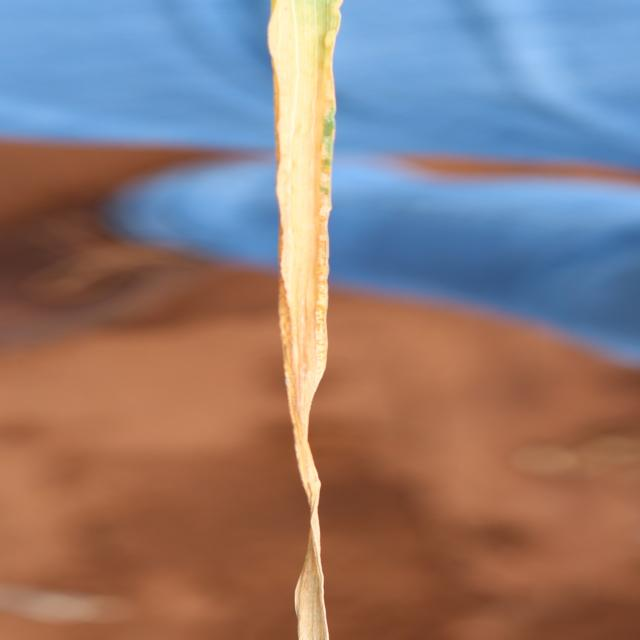Septoria: (266, 1, 342, 638)
